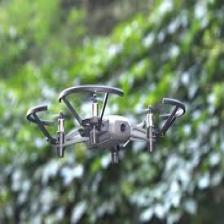drone: (47, 99, 160, 159)
